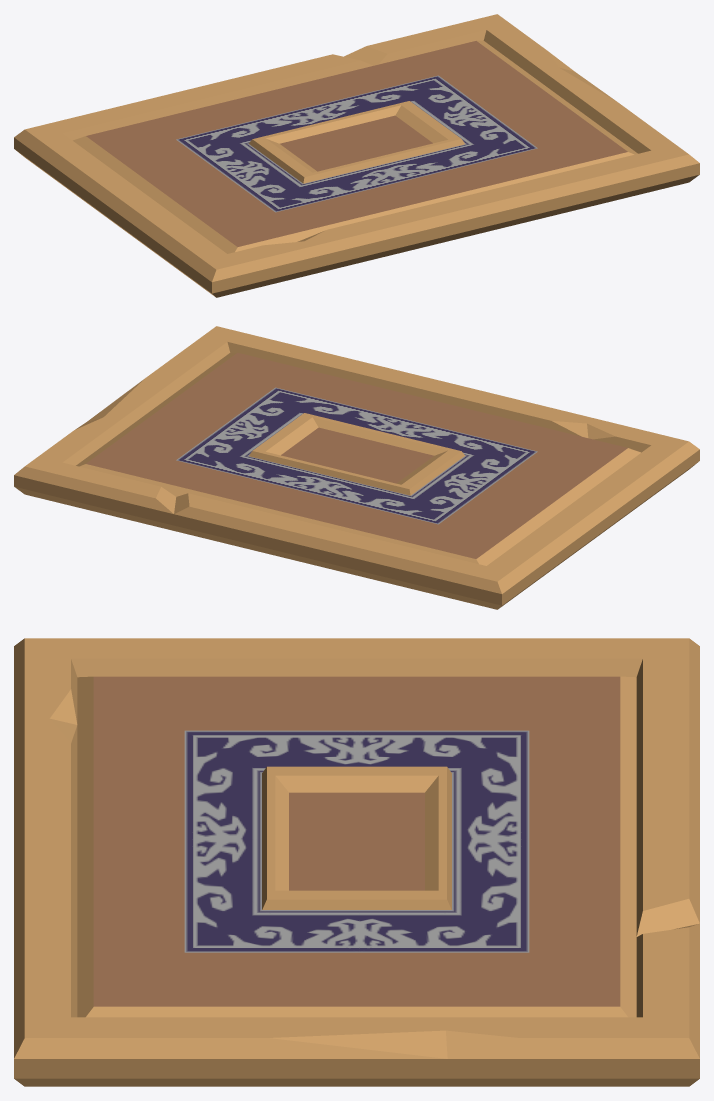
Rendered from SM_Veh_Cart_01_Lid_01.fbx.
3 views of the same model, one above another, from view 1: azimuth 30°, elevation 25°; view 2: azimuth 150°, elevation 25°; view 3: azimuth 270°, elevation 25° (orthographic). The views are drawn at different scales.
Parts seen in each view (by area): view 1: SM_Veh_Cart_01_Lid_01; view 2: SM_Veh_Cart_01_Lid_01; view 3: SM_Veh_Cart_01_Lid_01.
Part boxes in pixels (x1,y1,x2,y2): SM_Veh_Cart_01_Lid_01: (14, 14, 699, 297); SM_Veh_Cart_01_Lid_01: (14, 326, 699, 609); SM_Veh_Cart_01_Lid_01: (14, 638, 699, 1086).
Bounding box in the file's own units: 99.73 × 70.05 × 6.06.
Materials: 1 (1 with a texture image).
